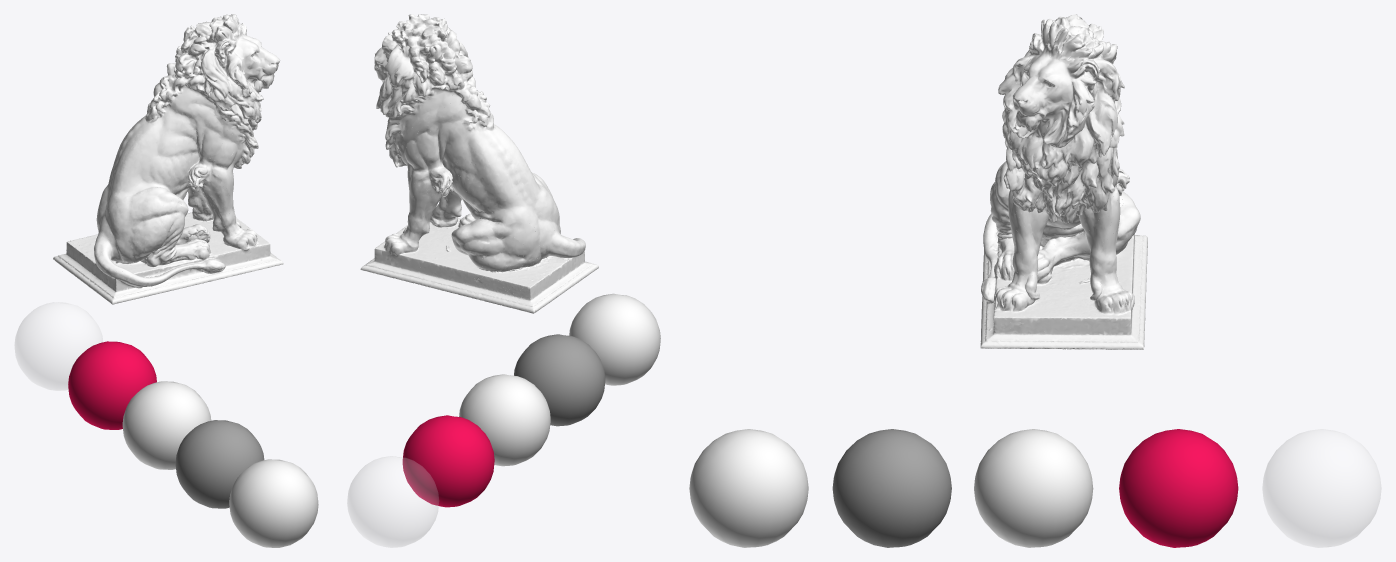
The model's file is materials-med.glb.
The picture shows the model from 3 angles, left to right: view 1: azimuth 30°, elevation 25°; view 2: azimuth 150°, elevation 25°; view 3: azimuth 270°, elevation 25°; orthographic projection. The views are drawn at different scales.
Parts seen in each view (by area): view 1: Object_3.001, Object_2.001, Object_6.001, Sphere1, Sphere5, Sphere3, Sphere4, Sphere2, Object_5.001, Object_4.001; view 2: Object_3.001, Object_4.001, Object_5.001, Object_6.001, Sphere5, Sphere2, Sphere4, Sphere1, Sphere3, Object_2.001; view 3: Object_4.001, Object_6.001, Sphere3, Sphere1, Sphere5, Sphere4, Sphere2, Object_2.001, Object_5.001, Object_3.001.
Boxes of the visible parts, left/top/right/bottom form: Object_3.001: left=70, top=73, right=283, bottom=304; Object_2.001: left=53, top=165, right=277, bottom=304; Object_6.001: left=132, top=14, right=280, bottom=289; Sphere1: left=229, top=459, right=318, bottom=547; Sphere5: left=68, top=341, right=156, bottom=429; Sphere3: left=175, top=420, right=264, bottom=508; Sphere4: left=122, top=381, right=211, bottom=469; Sphere2: left=15, top=302, right=102, bottom=390; Object_5.001: left=53, top=61, right=270, bottom=300; Object_4.001: left=81, top=89, right=261, bottom=302; Object_3.001: left=360, top=92, right=594, bottom=305; Object_4.001: left=361, top=94, right=598, bottom=300; Object_5.001: left=376, top=76, right=594, bottom=311; Object_6.001: left=374, top=14, right=490, bottom=226; Sphere5: left=402, top=415, right=494, bottom=507; Sphere2: left=347, top=456, right=438, bottom=547; Sphere4: left=459, top=374, right=550, bottom=466; Sphere1: left=569, top=293, right=660, bottom=385; Sphere3: left=514, top=334, right=605, bottom=426; Object_2.001: left=397, top=136, right=598, bottom=313; Object_4.001: left=982, top=96, right=1146, bottom=347; Object_6.001: left=981, top=14, right=1124, bottom=347; Sphere3: left=832, top=429, right=951, bottom=547; Sphere1: left=689, top=429, right=808, bottom=547; Sphere5: left=1119, top=429, right=1238, bottom=547; Sphere4: left=974, top=429, right=1093, bottom=547; Sphere2: left=1262, top=429, right=1381, bottom=547; Object_2.001: left=981, top=163, right=1147, bottom=341; Object_5.001: left=983, top=57, right=1147, bottom=332; Object_3.001: left=980, top=161, right=1146, bottom=349.
Size of the model in its own units: 0.1182 by 0.2614 by 0.29.
